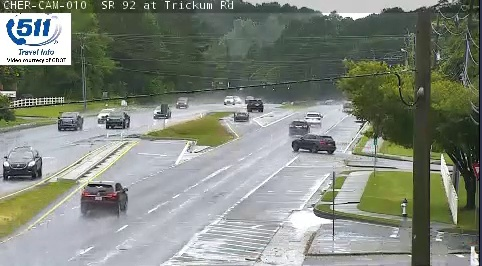car: (81, 181, 126, 210), (289, 119, 310, 137), (303, 112, 322, 126)
